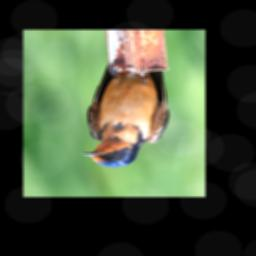Swallow: (82, 57, 170, 168)
